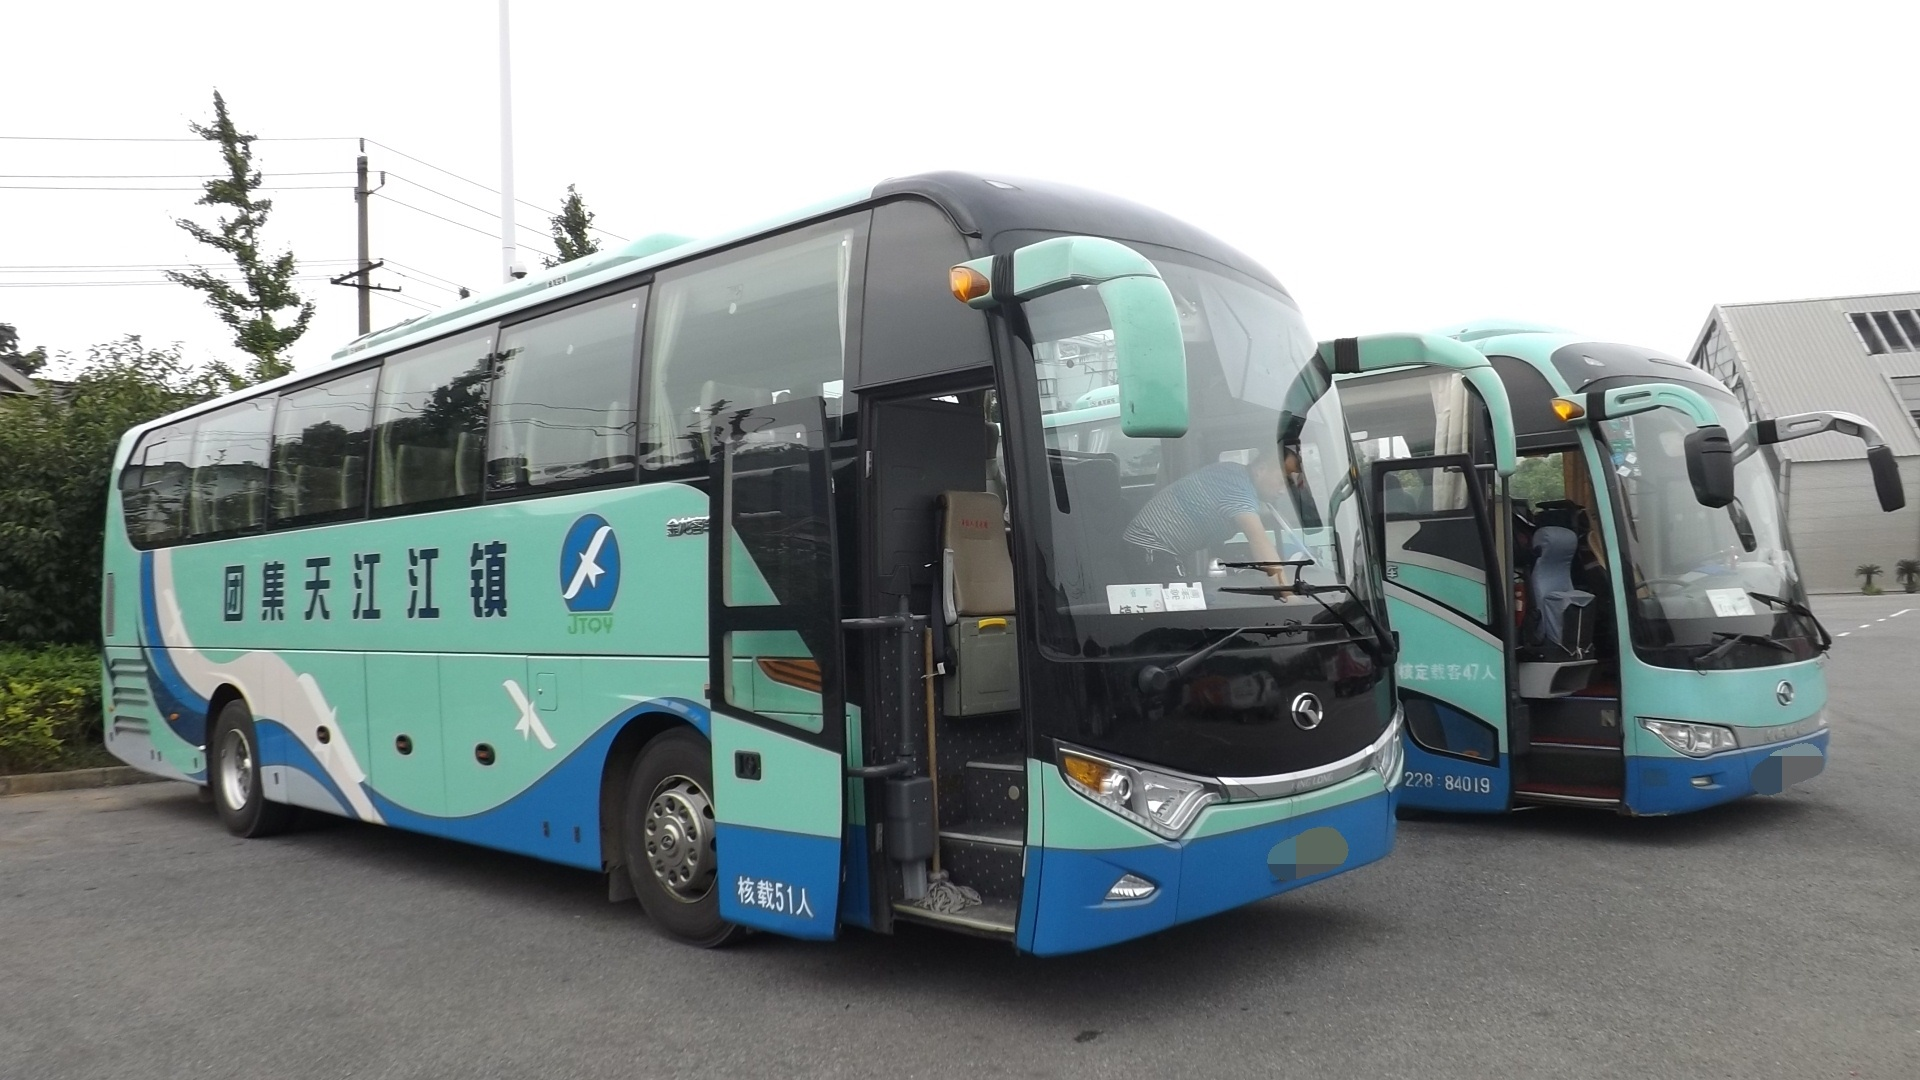bus: (98, 218, 1422, 980)
